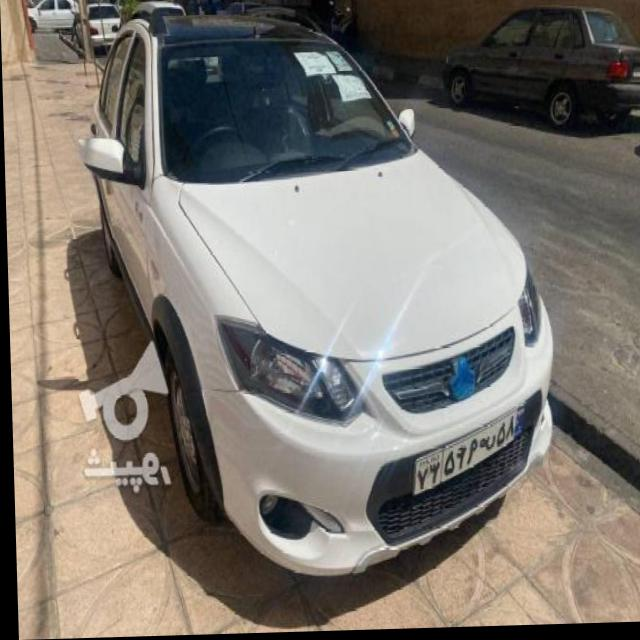licence: (409, 405, 529, 500)
